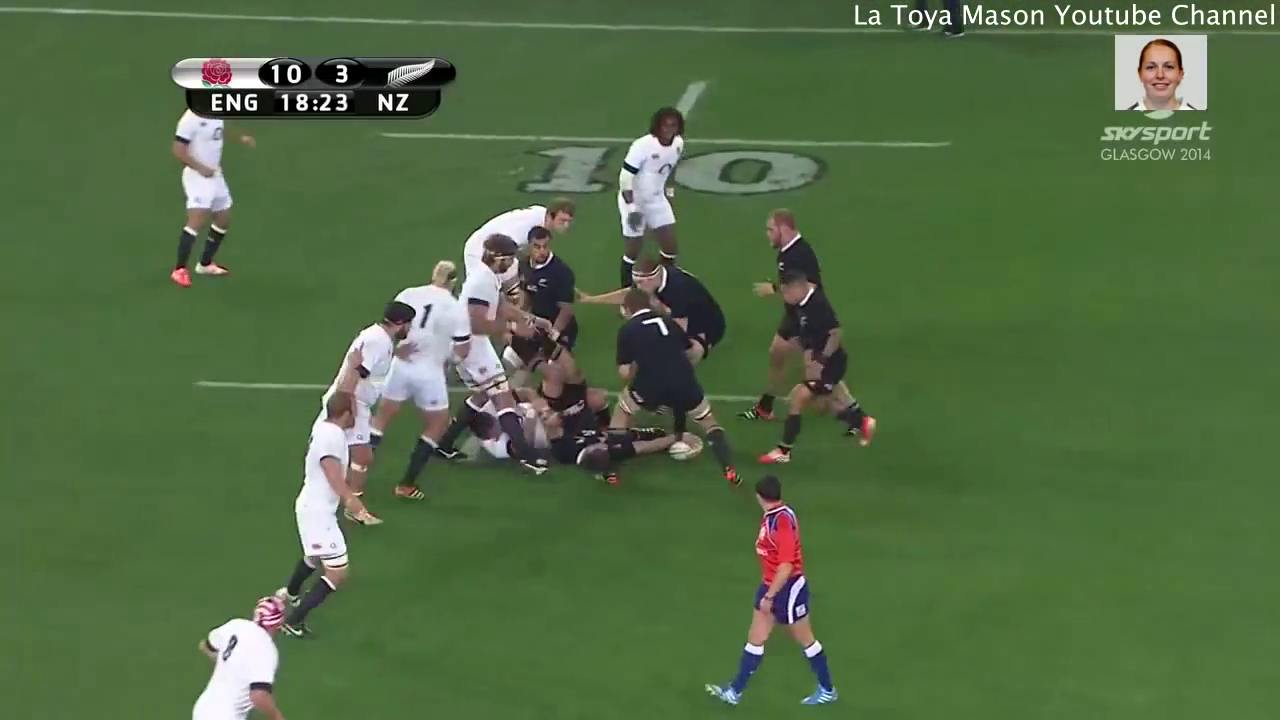10_metre: (363, 60, 955, 212)
ball: (662, 421, 714, 467)
player: (690, 470, 852, 713), (574, 279, 751, 493), (352, 252, 481, 511), (433, 220, 555, 486), (268, 382, 383, 649), (303, 288, 419, 539), (757, 266, 882, 473), (731, 203, 837, 430), (153, 87, 267, 293), (563, 252, 738, 379), (598, 98, 696, 293), (173, 590, 305, 720), (497, 223, 585, 397), (448, 190, 571, 282)
ruck: (392, 318, 723, 480)
